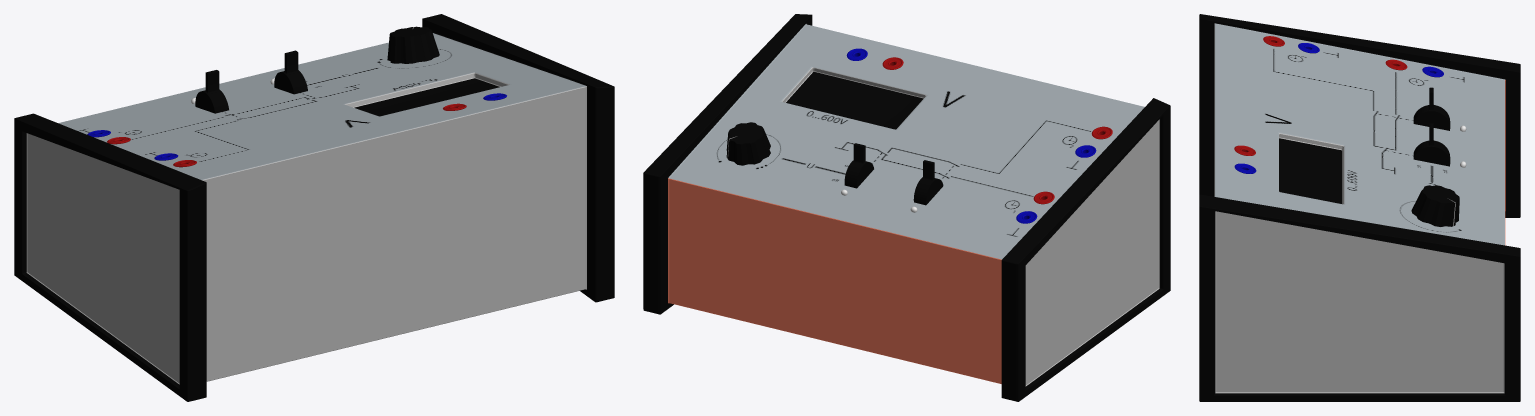
Rendered from VoltageBox.fbx.
The picture shows the model from 3 angles, left to right: view 1: azimuth 30°, elevation 25°; view 2: azimuth 150°, elevation 25°; view 3: azimuth 270°, elevation 25°; orthographic projection. The views are drawn at different scales.
Visible parts, largest first — view 1: VoltageBox, Knob, Lever2, Lever1; view 2: VoltageBox, Knob, Lever1, Lever2; view 3: VoltageBox, Knob, Lever1, Lever2.
Part boxes in pixels (box(x1,y1,x2,y2)): VoltageBox: box(14, 14, 614, 401); Knob: box(387, 26, 439, 63); Lever2: box(195, 70, 228, 113); Lever1: box(274, 50, 307, 94); VoltageBox: box(643, 14, 1170, 401); Knob: box(726, 122, 770, 165); Lever1: box(844, 143, 873, 188); Lever2: box(913, 160, 943, 205); VoltageBox: box(1199, 14, 1520, 401); Knob: box(1411, 185, 1459, 226); Lever1: box(1413, 123, 1450, 166); Lever2: box(1413, 87, 1450, 130).
Size of the model in its own units: 220 by 106 by 155.
